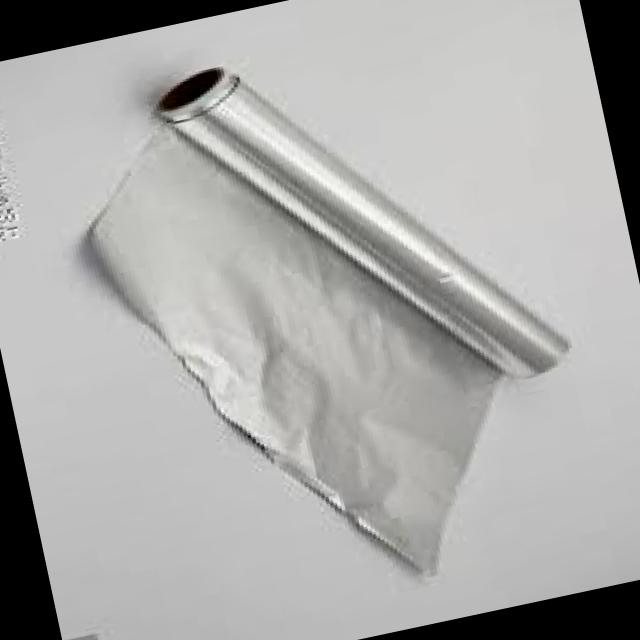metal: (159, 69, 567, 377)
